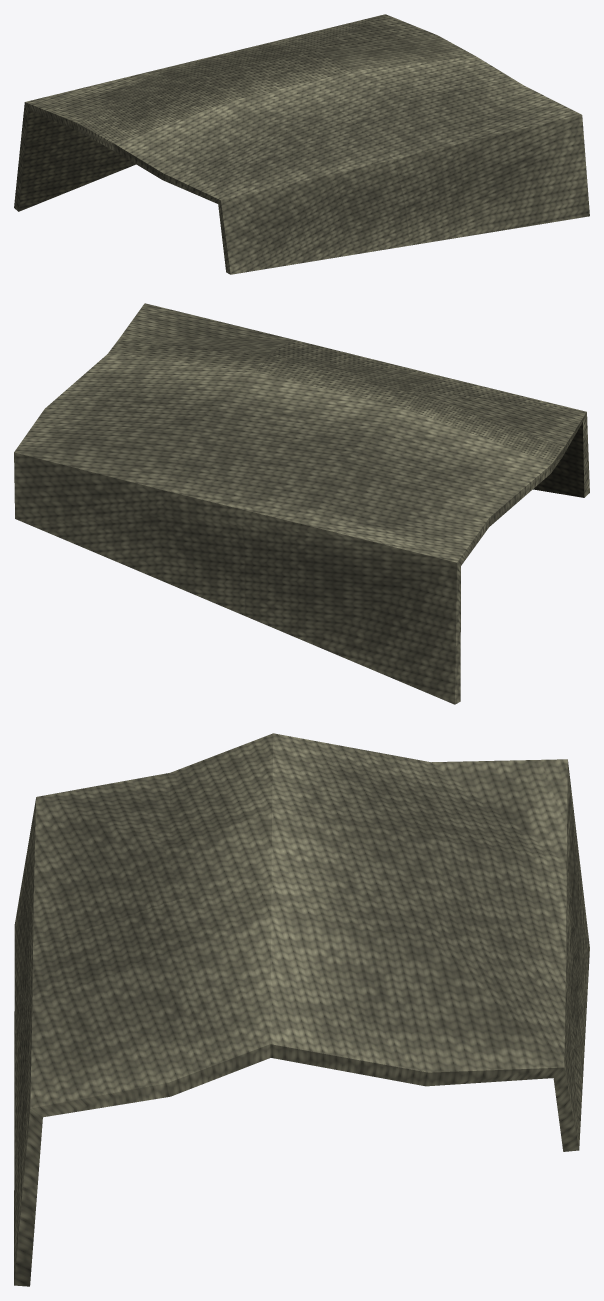
Rendered from Blanket.fbx.
The picture shows the model from 3 angles, top to bottom: view 1: azimuth 30°, elevation 25°; view 2: azimuth 150°, elevation 25°; view 3: azimuth 270°, elevation 25°; orthographic projection. The views are drawn at different scales.
Visible parts, largest first — view 1: Blanket; view 2: Blanket; view 3: Blanket.
Boxes of the visible parts, x1,y1,x2,y2 form: Blanket: (14,14,589,274); Blanket: (14,303,589,704); Blanket: (14,733,589,1286).
Size of the model in its own units: 168 by 55.37 by 115.
